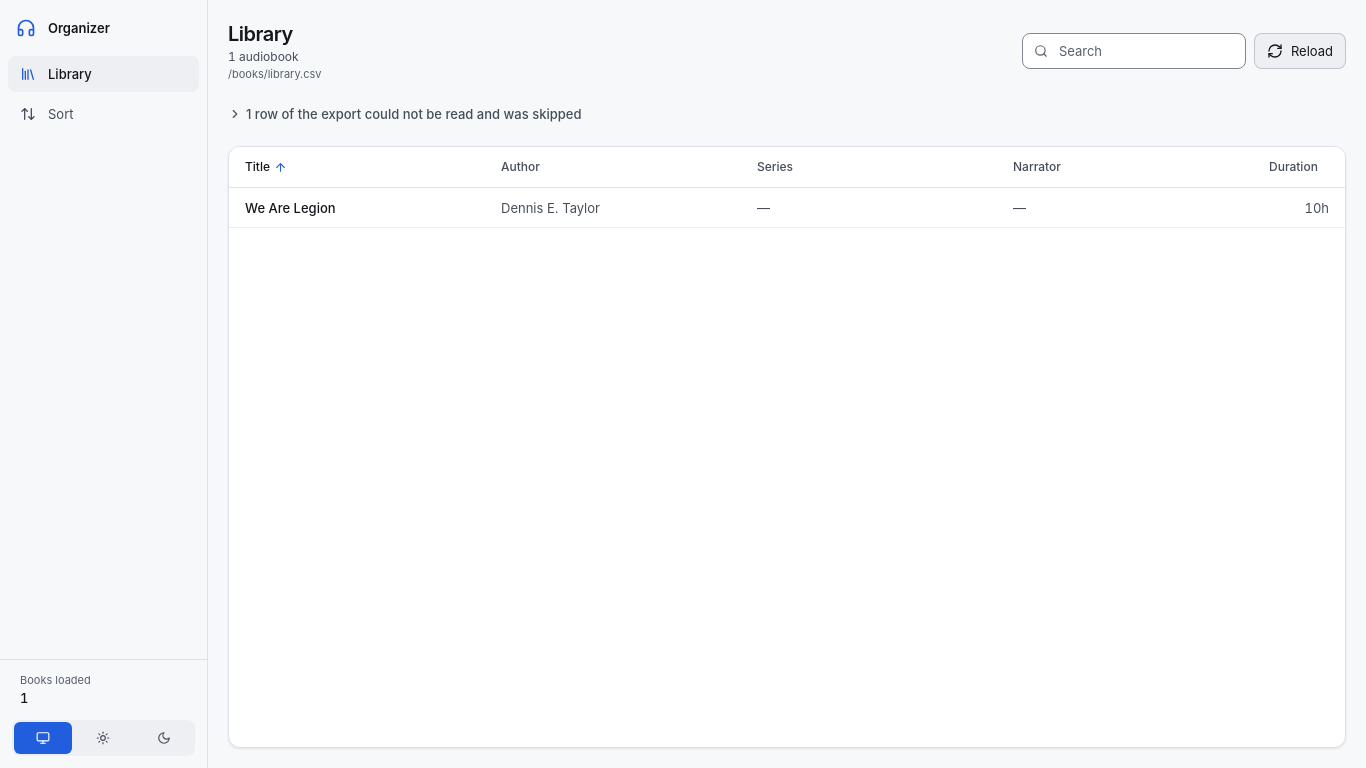
Test: Library › shows rows the export could not read, folded away
Click the button "1 row of the export could not be read and was skipped": click(405, 114) [228,98,582,130]
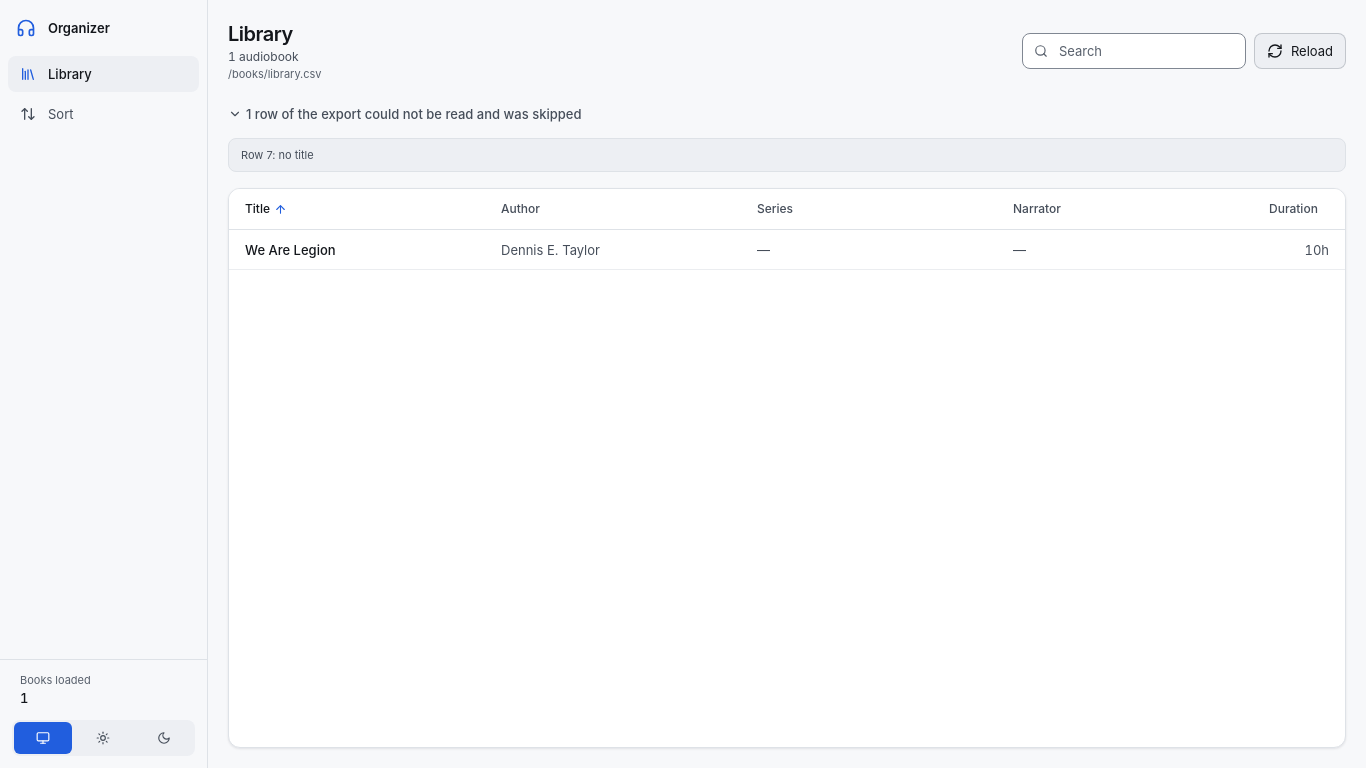
Check: the button "1 row of the export could not be read and was skipped" is expanded, box [228,98,582,130]
Check: the list item "Row 7: no title" is shown, box [241,148,314,162]
